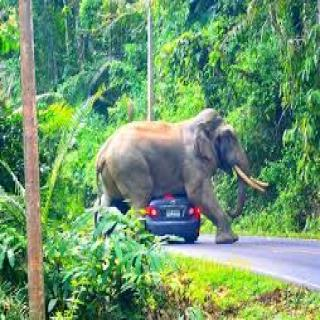Elephant: (95, 108, 267, 246)
